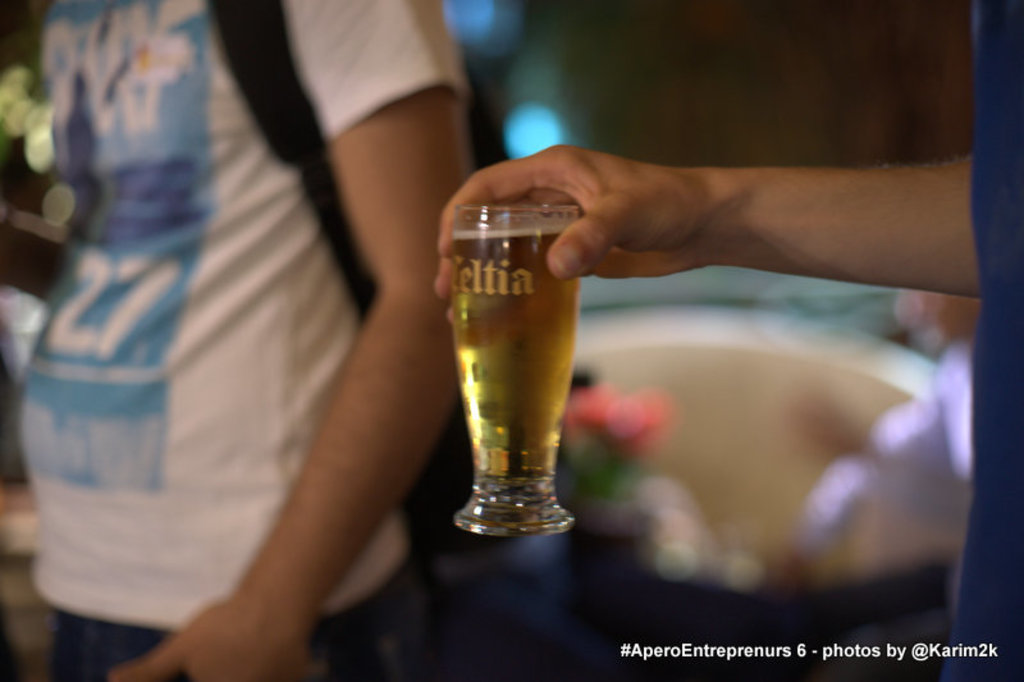Beer: (448, 225, 584, 486)
